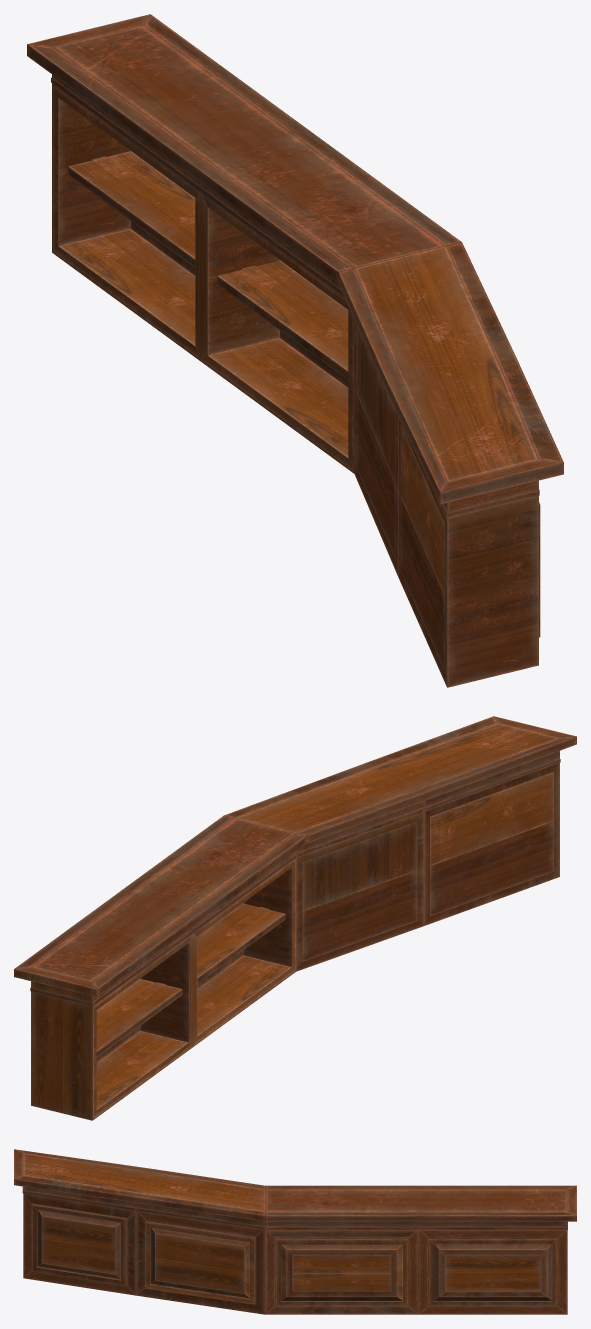
Rendered from bartable.fbx.
3 renders of one model, top to bottom at view 1: azimuth 30°, elevation 25°; view 2: azimuth 150°, elevation 25°; view 3: azimuth 270°, elevation 25°, orthographic. The views are drawn at different scales.
Visible parts, largest first — view 1: Cube.005, Cube.001; view 2: Cube.005, Cube.001; view 3: Cube.005, Cube.001.
Boxes of the visible parts, x1,y1,x2,y2 form: Cube.005: (27,14,461,473); Cube.001: (338,242,563,687); Cube.005: (14,815,306,1120); Cube.001: (224,716,576,971); Cube.005: (265,1185,576,1314); Cube.001: (14,1149,265,1314).
Size of the model in its own units: 203 by 146 by 725.
1 material, 1 textured.
